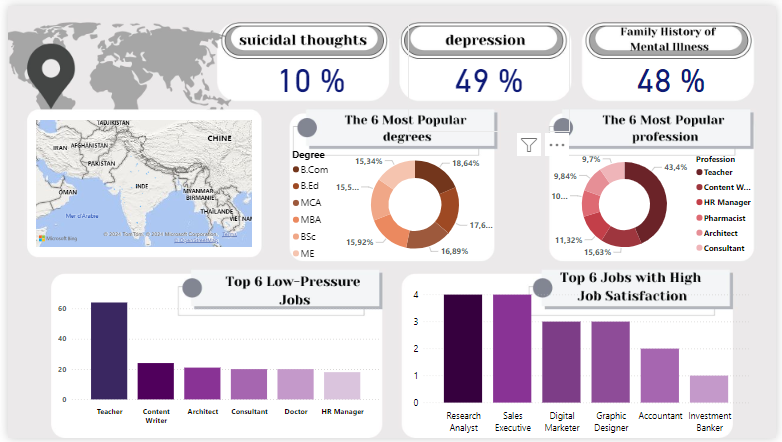

The dashboard page shown, as its layout file describes it:
{"tool":"powerbi","page":{"name":"job","canvas":[1280,720],"ordinal":2},"visuals":[{"type":"filledMap","fields":{"Category":["final_depression_dataset_1.City"]},"box":[41.7,185,370,221.7],"z":0},{"type":"donutChart","fields":{"Category":["degree.Degree"],"Y":["Sum(top_degree.top_6_degree)"]},"box":[468.3,221.7,345,218.3],"z":2000},{"type":"donutChart","fields":{"Category":["top-profession.Profession"],"Y":["Sum(top-profession.top_6_profession)"]},"box":[903.3,221.7,350,218.3],"z":3000},{"type":"columnChart","fields":{"Category":["top_workpressure.Profession"],"Y":["Sum(top_workpressure.top-6-job_without_Pressure)"]},"box":[666.7,465,573.3,255],"z":3001},{"type":"columnChart","fields":{"Category":["top_jobsatisfaction.Profession"],"Y":["Sum(top_jobsatisfaction.Nombre)"]},"box":[78.3,465,546.7,241.7],"z":3002},{"type":"card","fields":{"Values":["All Measures.Pourcentage Dépression"]},"box":[370,25,270,185],"z":3003},{"type":"card","fields":{"Values":["All Measures.Pourcentage Historique Familial"]},"box":[666.7,25,270,185],"z":3004},{"type":"card","fields":{"Values":["All Measures.Pourcentage Pensées Suicidaires"]},"box":[993.3,50,223.3,135],"z":3005}]}

Visuals, with their boxes in screenshot pixels (x1, y1, x2, y2), scaled from the page's 1280x720 canvas onto the 782x442 screenshot:
filledMap - final_depression_dataset_1.City: <region>25, 114, 252, 250</region>
donutChart - degree.Degree x Sum(top_degree.top_6_degree): <region>286, 136, 497, 270</region>
donutChart - top-profession.Profession x Sum(top-profession.top_6_profession): <region>552, 136, 766, 270</region>
columnChart - top_workpressure.Profession x Sum(top_workpressure.top-6-job_without_Pressure): <region>407, 285, 758, 441</region>
columnChart - top_jobsatisfaction.Profession x Sum(top_jobsatisfaction.Nombre): <region>48, 285, 382, 434</region>
card - All Measures.Pourcentage Dépression: <region>226, 15, 391, 129</region>
card - All Measures.Pourcentage Historique Familial: <region>407, 15, 572, 129</region>
card - All Measures.Pourcentage Pensées Suicidaires: <region>607, 31, 743, 114</region>
